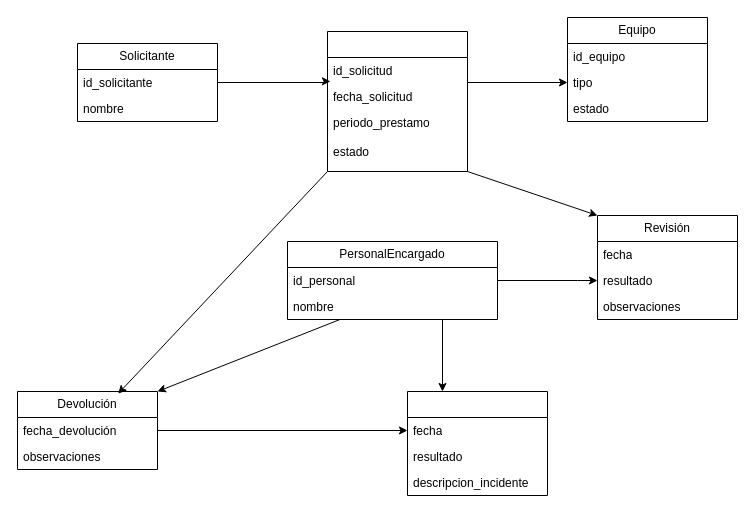
This 755x516 diagram has some shape labels left out. The box of each missing label's shape, as (x1, y1, x2, y2) in pixels:
Inspección: (406, 390, 548, 496)
SolicitudPrestamo: (326, 30, 468, 172)
